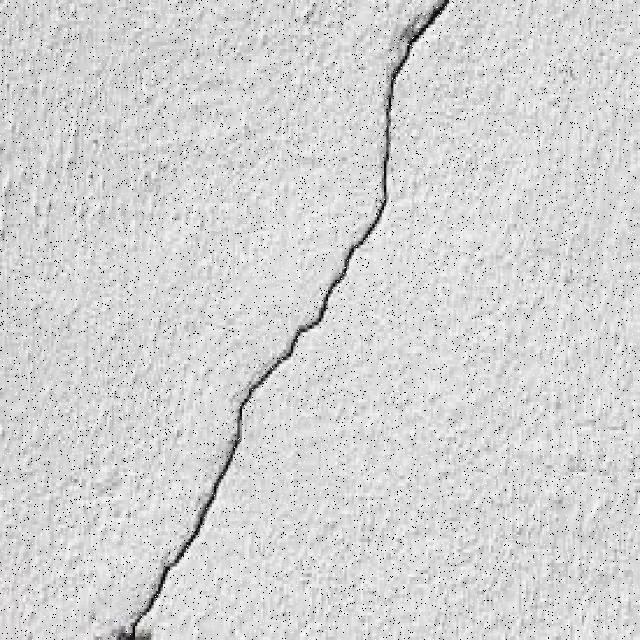moderate crack: (84, 462, 129, 498)
severe crack: (86, 3, 465, 634), (293, 201, 386, 350), (222, 327, 314, 434), (106, 529, 195, 637), (376, 8, 445, 120), (190, 356, 231, 397), (374, 127, 394, 207)
